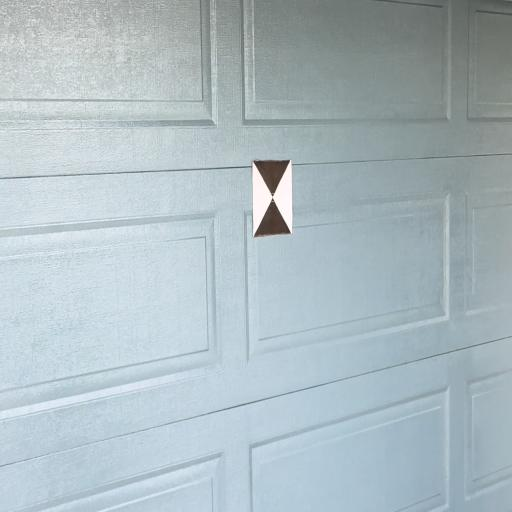target: (252, 161, 294, 237)
